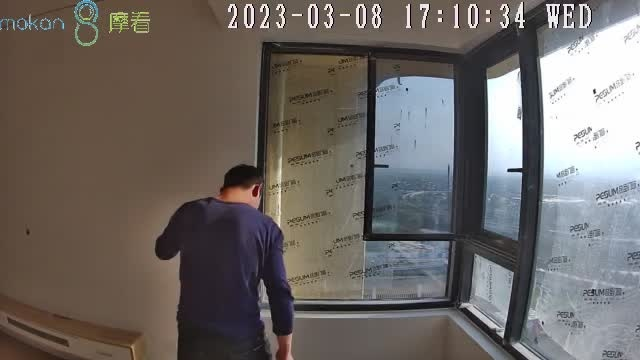people: (153, 163, 298, 360)
window: (256, 3, 640, 357)
